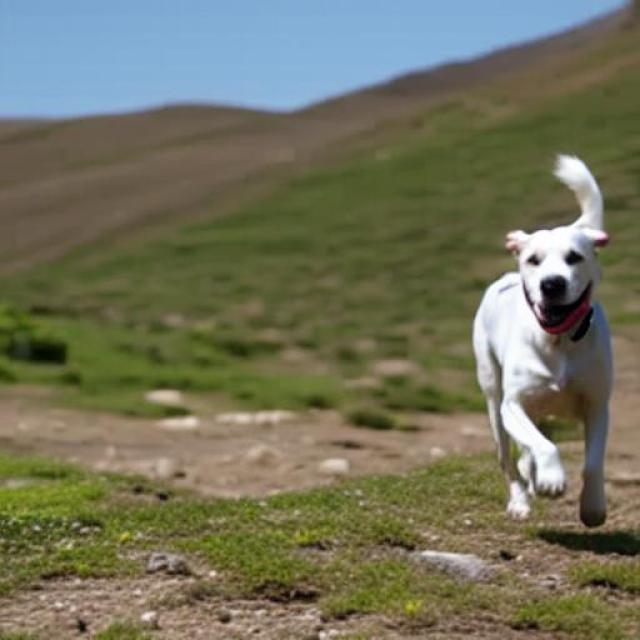Dog: (470, 154, 614, 528)
